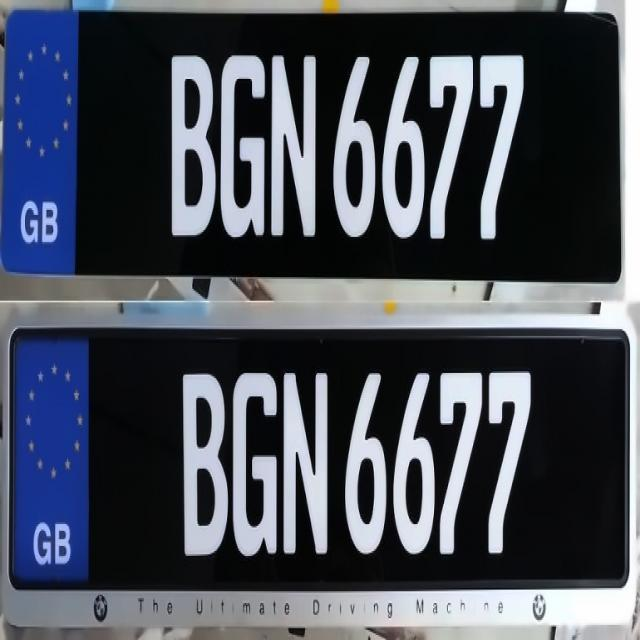License_Plate: (7, 318, 640, 605), (4, 2, 625, 293)
